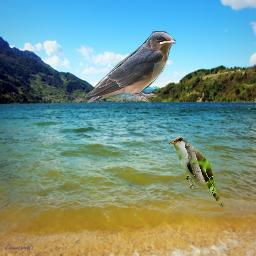Cuckoo: (167, 136, 226, 207)
Swallow: (84, 31, 176, 106)
